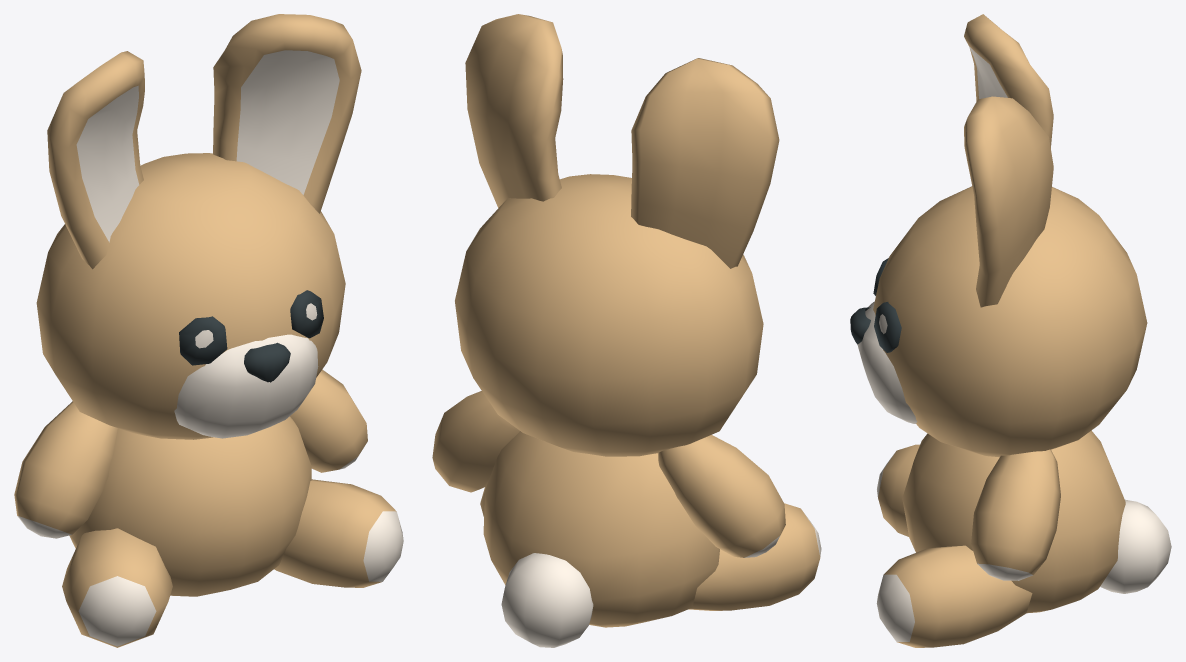
The model's file is Bunny_01.fbx.
The picture shows the model from 3 angles, left to right: view 1: azimuth 30°, elevation 25°; view 2: azimuth 150°, elevation 25°; view 3: azimuth 270°, elevation 25°; orthographic projection. The views are drawn at different scales.
Visible parts, largest first — view 1: Bunny_01; view 2: Bunny_01; view 3: Bunny_01.
Boxes of the visible parts, left/top/right/bottom form: Bunny_01: left=14, top=14, right=403, bottom=647; Bunny_01: left=432, top=14, right=821, bottom=647; Bunny_01: left=850, top=14, right=1171, bottom=647.
Bounding box in the file's own units: 0.3043 × 0.4733 × 0.2578.
